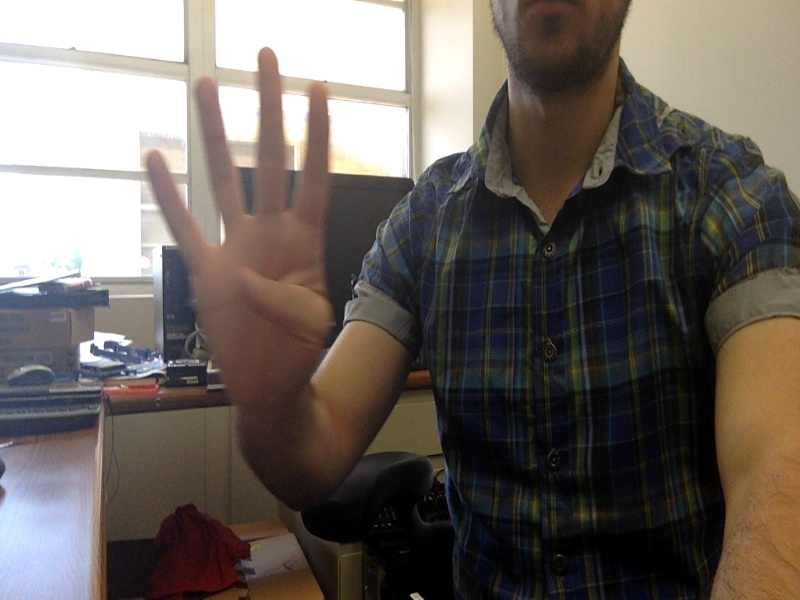4-hand: (141, 50, 332, 403)
